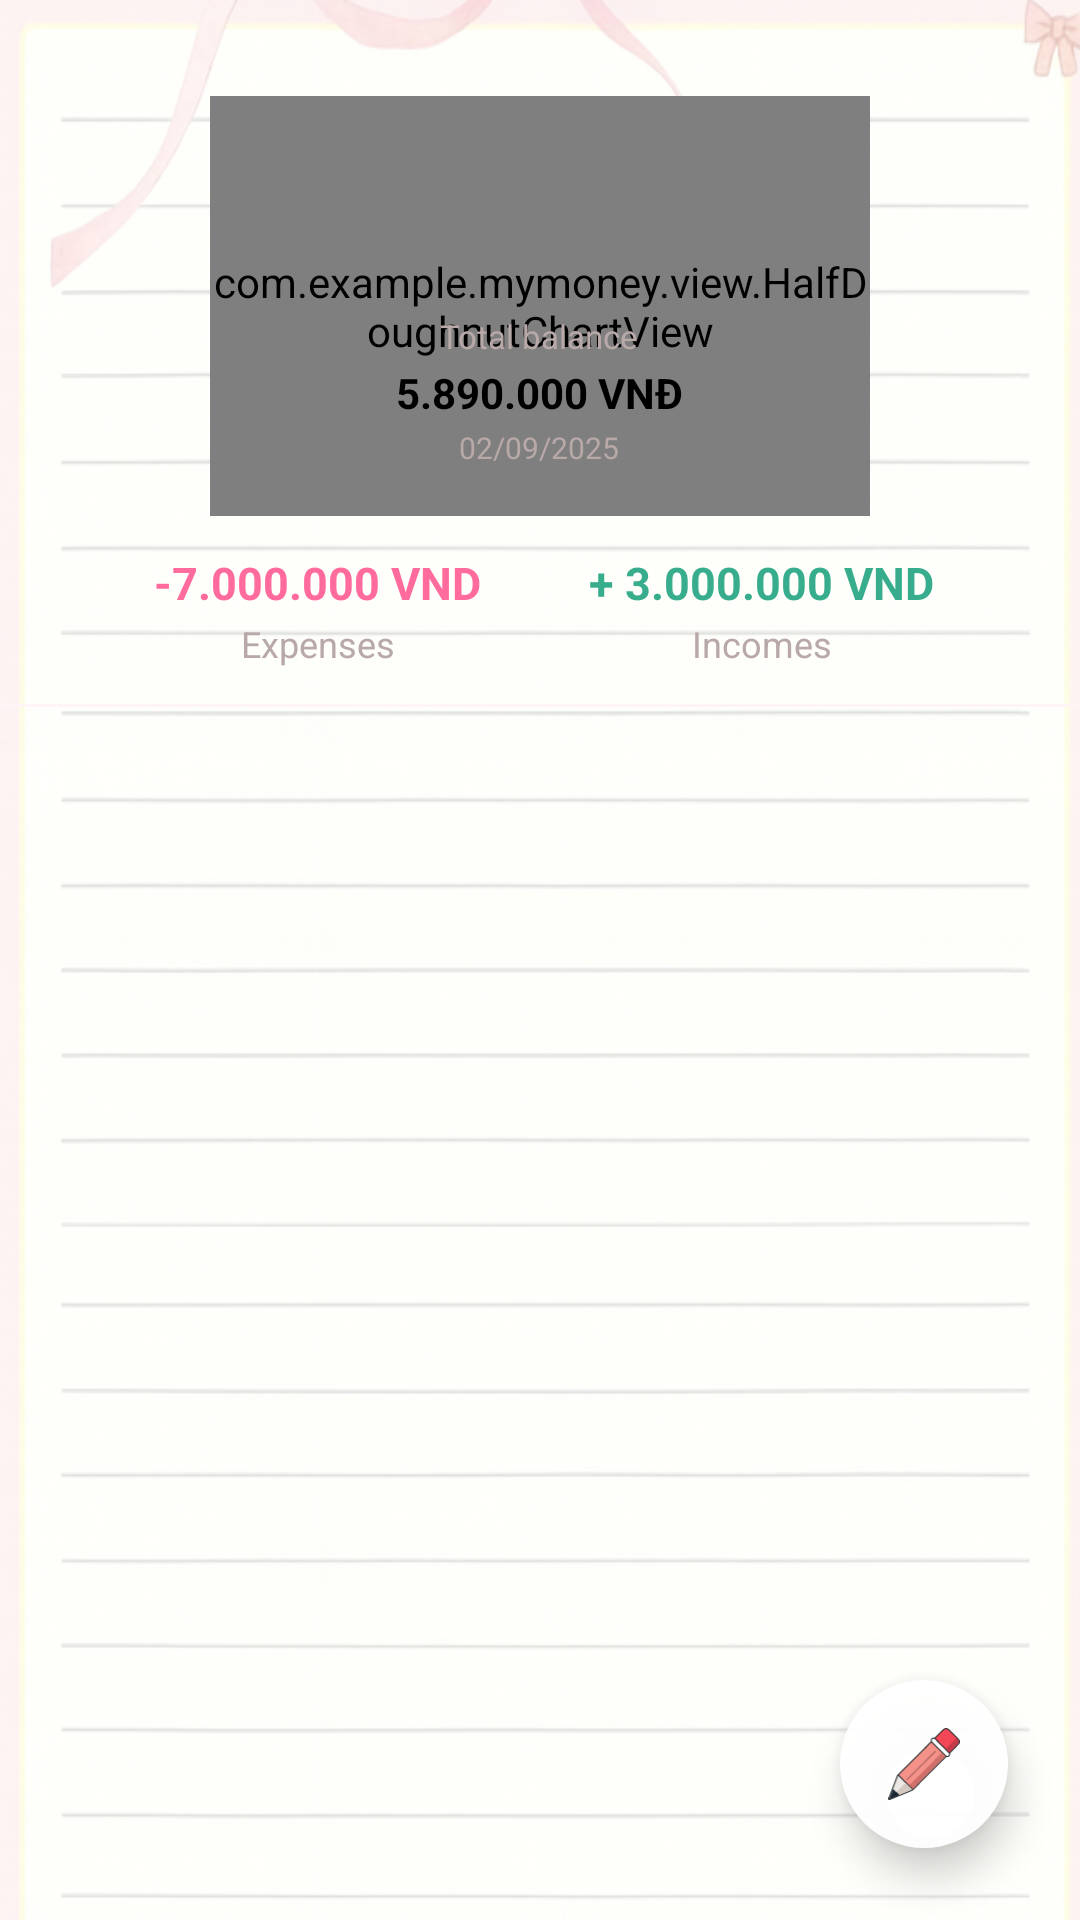

Point at icon controls on the screen. Image size 1080x1920, points as [x,y].
Add transaction: [924,1788]
